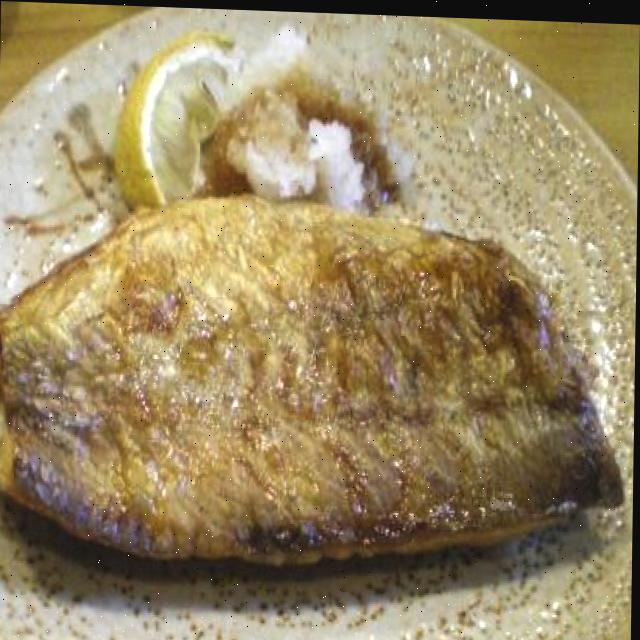熟制海鲜: (0, 156, 623, 601)
